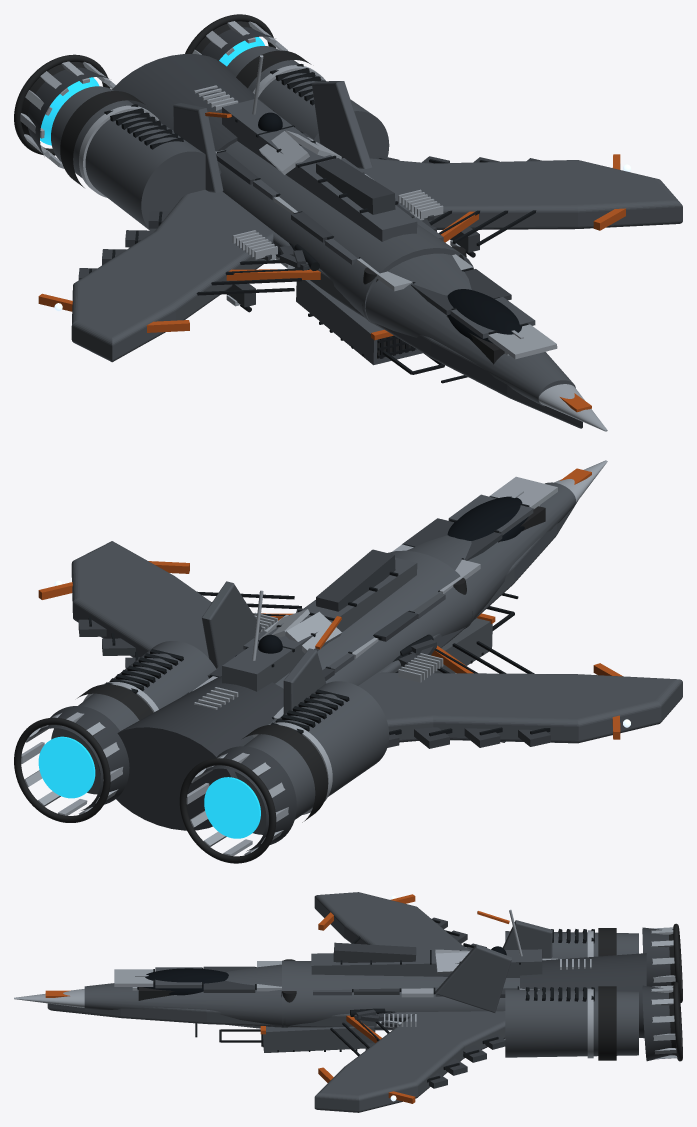
Rendered from ship.glb.
The picture shows the model from 3 angles, top to bottom: view 1: azimuth 30°, elevation 25°; view 2: azimuth 150°, elevation 25°; view 3: azimuth 270°, elevation 25°; orthographic projection. The views are drawn at different scales.
Visible parts, largest first — view 1: airframe, fuselage_mid, engine_nacelle_L, fuselage_forward, fuselage_aft, spine_body, engine_R_nacelle, tail_fin_R, intake_scoop_L, spine_crest, canopy, tail_fin_L (+16 smaller); view 2: airframe, fuselage_aft, fuselage_mid, engine_nacelle_L, fuselage_forward, spine_body, engine_R_nacelle, tail_fin_R, engine_R_plasma, engine_plasma_L, engine_nozzle_cone_L, engine_R_nozzle_cone (+14 smaller); view 3: airframe, engine_R_nacelle, fuselage_mid, fuselage_forward, fuselage_aft, spine_body, tail_fin_R, intake_R_scoop, engine_R_nozzle_cone, spine_crest, engine_nacelle_L, engine_R_scoring (+13 smaller).
Part boxes in pixels (x1,y1,x2,y2): airframe: (71,158,682,428); fuselage_mid: (217,141,473,323); engine_nacelle_L: (51,86,221,230); fuselage_forward: (362,253,575,406); fuselage_aft: (112,54,267,151); spine_body: (222,99,417,241); engine_R_nacelle: (226,46,389,158); tail_fin_R: (312,81,372,168); intake_scoop_L: (296,280,422,365); spine_crest: (316,158,395,214); canopy: (447,289,521,343); tail_fin_L: (173,103,223,192); airframe: (71,501,682,743); fuselage_aft: (98,676,283,830); fuselage_mid: (275,550,475,688); engine_nacelle_L: (235,681,389,834); fuselage_forward: (407,482,575,627); spine_body: (222,557,417,691); engine_R_nacelle: (51,641,216,794); tail_fin_R: (202,581,262,668); engine_R_plasma: (38,736,95,798); engine_plasma_L: (204,777,260,838); engine_nozzle_cone_L: (200,746,296,851); engine_R_nozzle_cone: (34,706,129,810); airframe: (47,892,505,1112); engine_R_nacelle: (505,989,638,1057); fuselage_mid: (282,960,519,1030); fuselage_forward: (84,964,285,1028); fuselage_aft: (520,953,646,1038); spine_body: (311,949,542,977); tail_fin_R: (435,944,511,1012); intake_R_scoop: (263,1026,375,1052); engine_R_nozzle_cone: (642,985,672,1061); spine_crest: (333,942,416,962); engine_nacelle_L: (505,931,638,959); engine_R_scoring: (598,986,616,1060).
Bounding box in the file's own units: 13.17 × 3.62 × 17.98.
